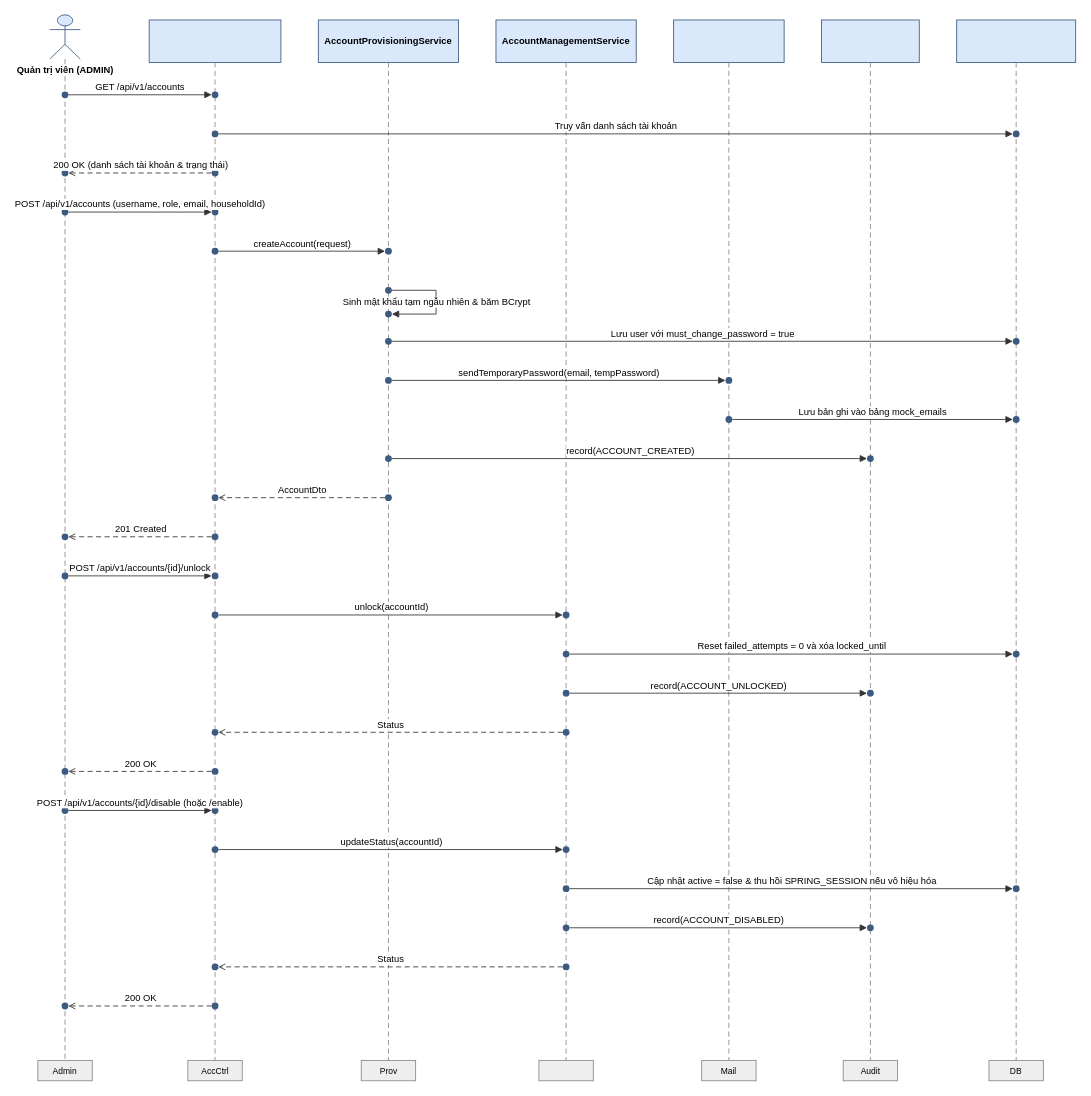
Image size: 1091x1096. Some labels were removed from this diagram. The centre of each missing label's shape, as x and y in pixels:
AccountController & AccountListController: pixel 214 40
AuditService: pixel 870 40
Mgmt: pixel 565 1070
MockEmailService: pixel 728 40
MySQL (users / mock_emails): pixel 1016 40
